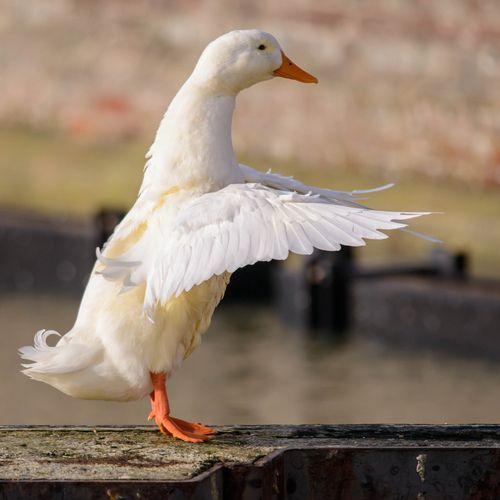Mencari Makan di Lumpur: (274, 50, 322, 90)
